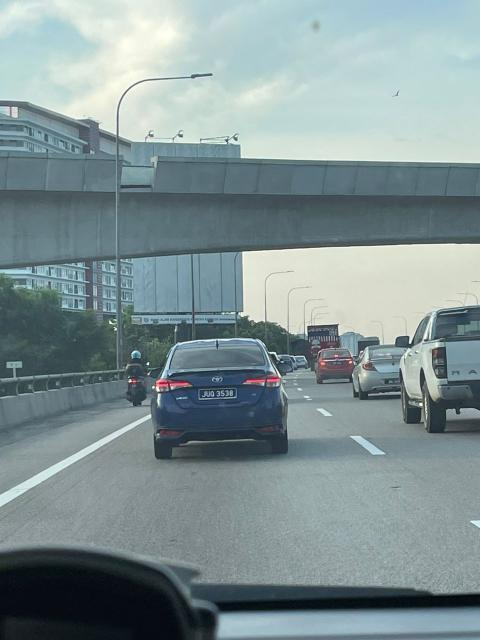License_Plate: (194, 387, 238, 402)
car: (156, 337, 291, 455), (396, 318, 480, 433), (356, 342, 435, 402), (320, 349, 359, 387)
